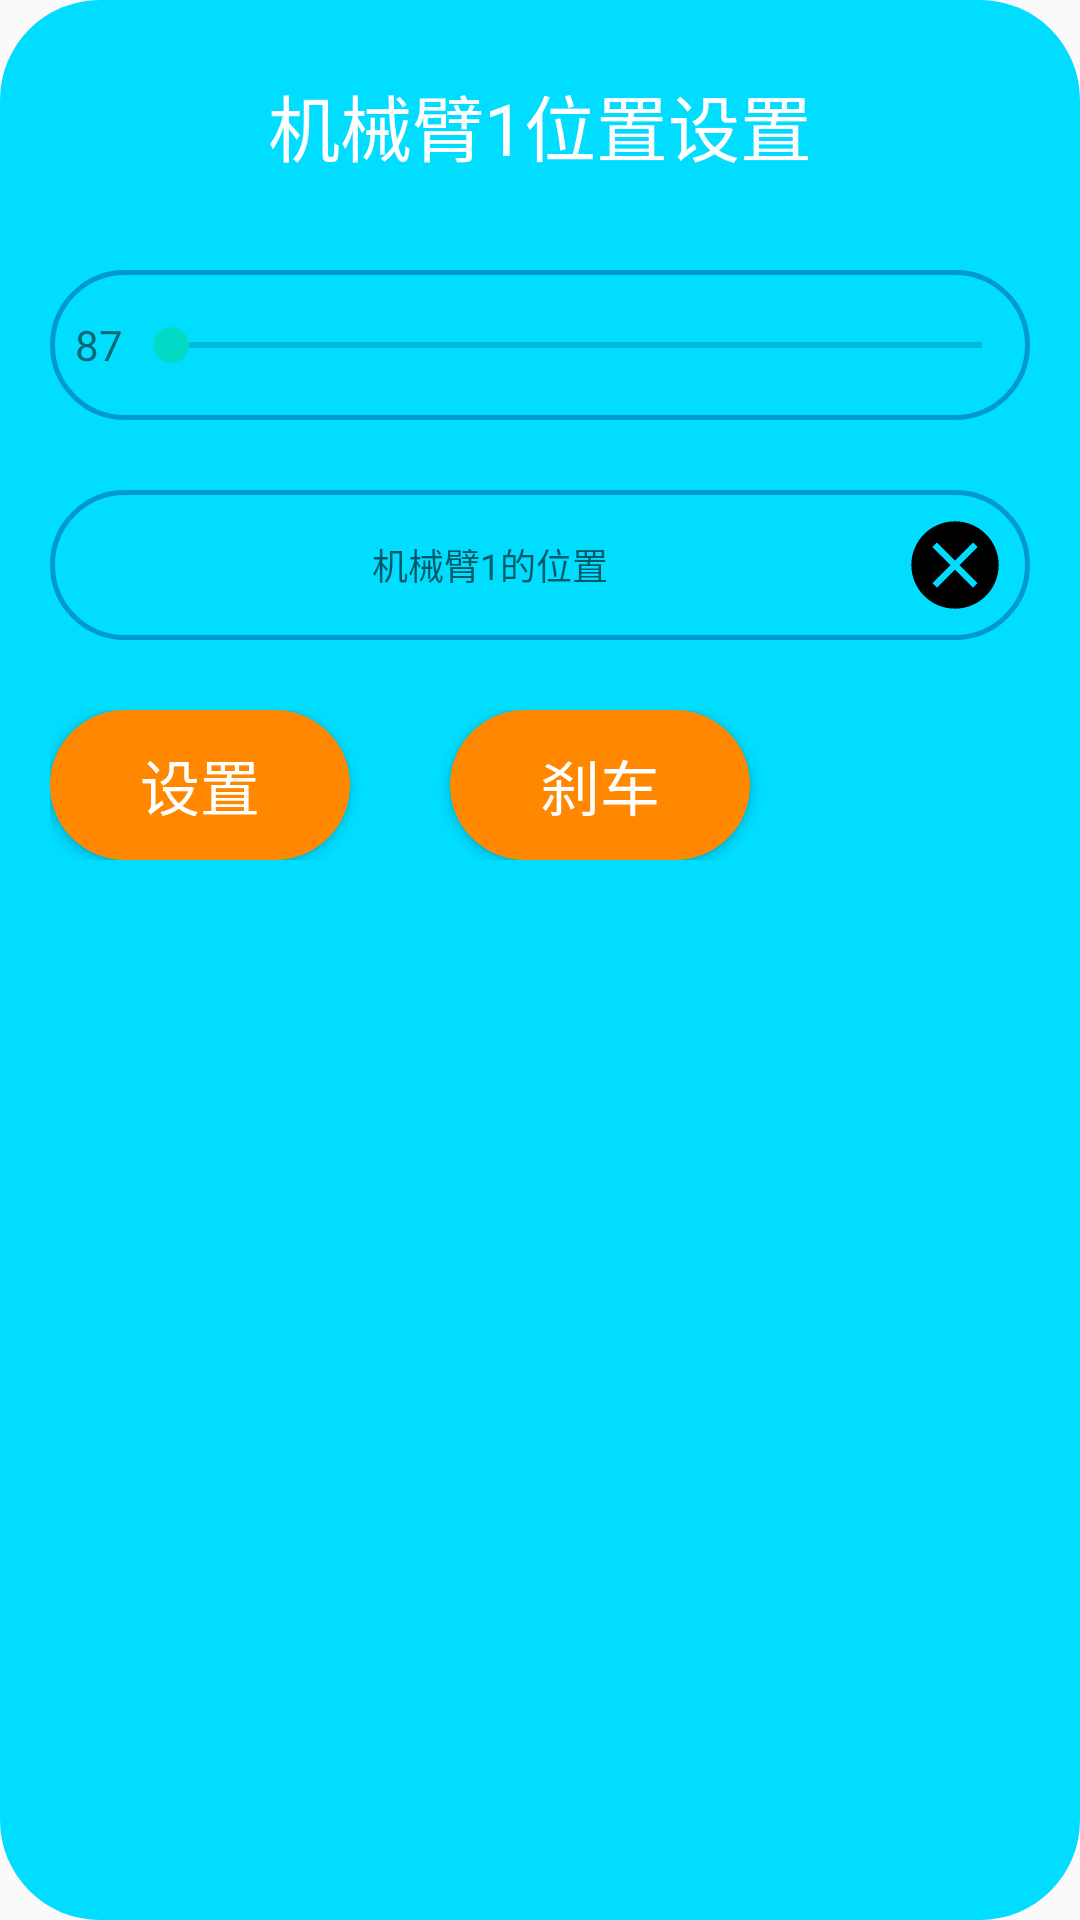

Point at icon controls on the screen. Image size 1080×1920, points as (x,y).
clear: (955,565)
